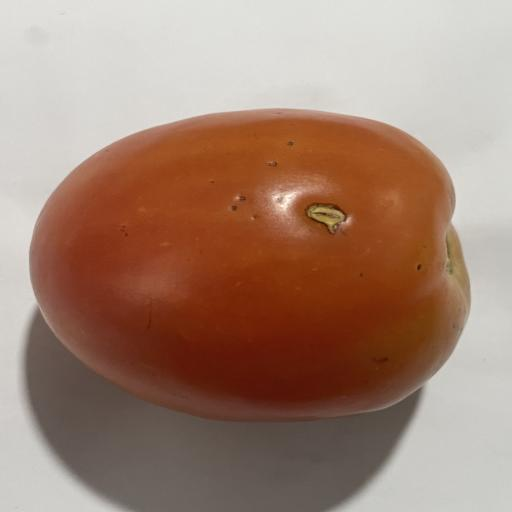ripe: (30, 108, 470, 421)
